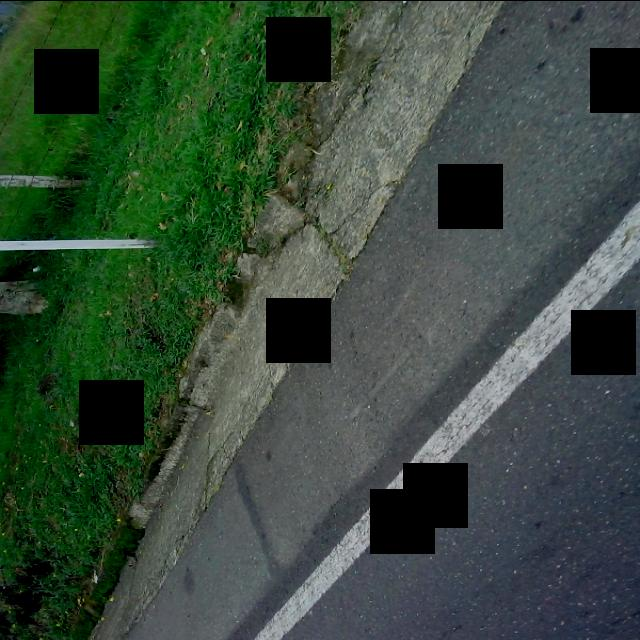DITCH: (85, 2, 638, 639)
